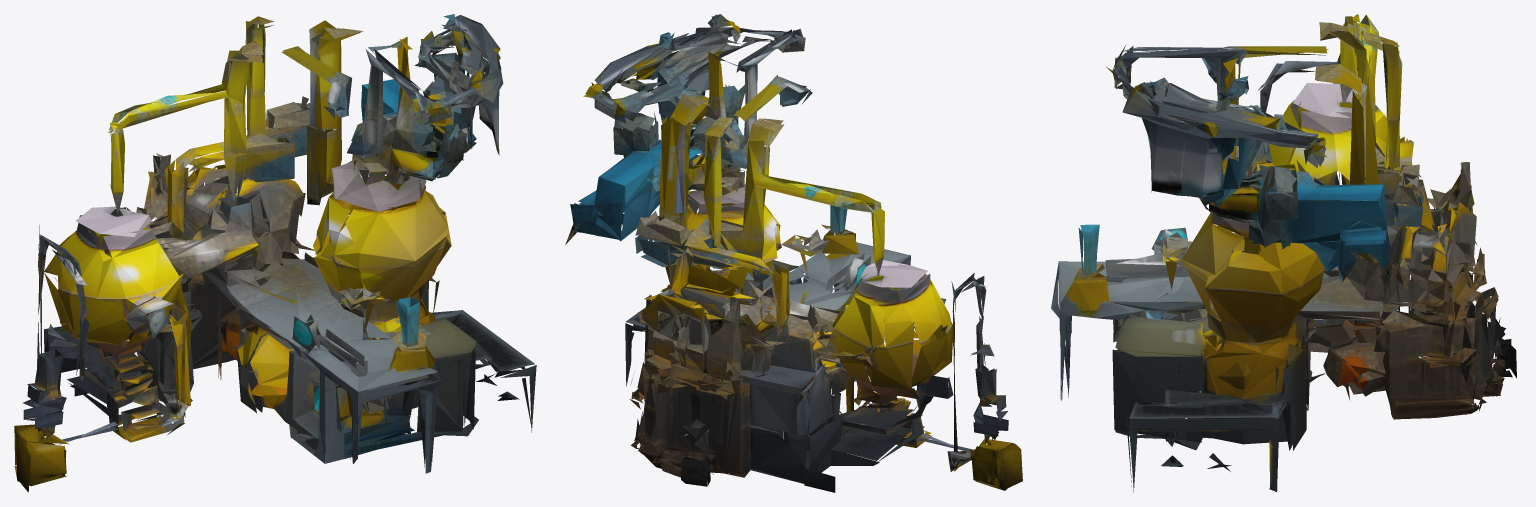
The model's file is food_lab_t2.fbx.
3 renders of one model, left to right at view 1: azimuth 30°, elevation 25°; view 2: azimuth 150°, elevation 25°; view 3: azimuth 270°, elevation 25°, orthographic. The views are drawn at different scales.
Visible parts, largest first — view 1: food_lab_t2; view 2: food_lab_t2; view 3: food_lab_t2.
Boxes of the visible parts, box(x1,y1,x2,y2) form: food_lab_t2: box(14, 14, 536, 492); food_lab_t2: box(565, 14, 1022, 492); food_lab_t2: box(1051, 14, 1516, 492).
Bounding box in the file's own units: 3.74 × 3 × 3.19.
1 material, 1 textured.
